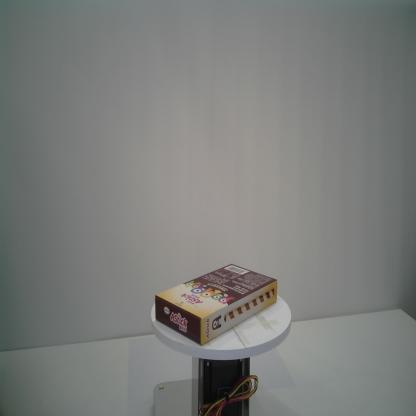Dessert: (154, 262, 279, 349)
